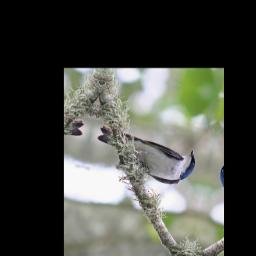Swallow: (90, 123, 201, 191)
